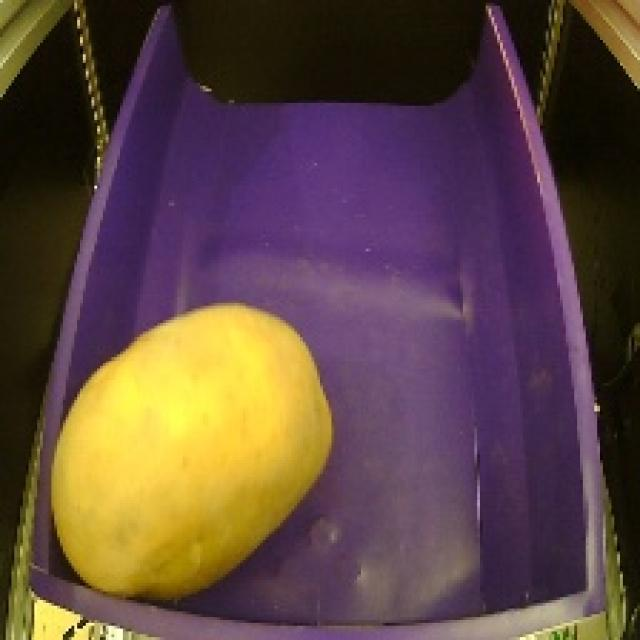full_potato: (38, 290, 345, 613)
